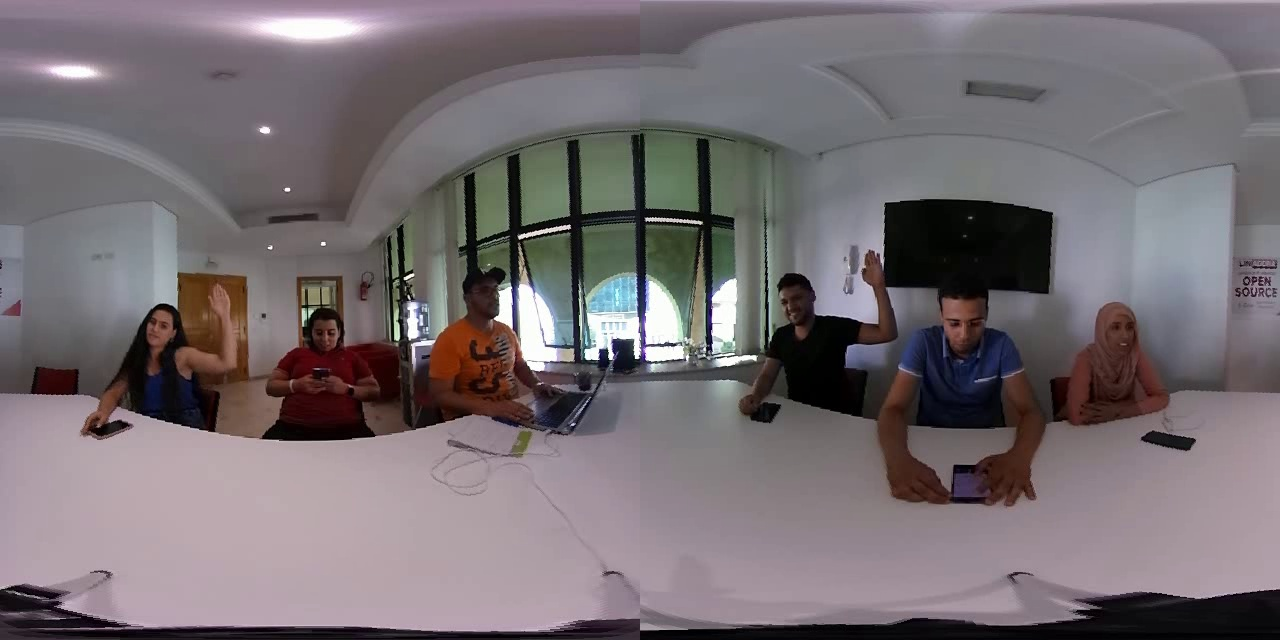person: (899, 265, 1053, 505), (77, 269, 260, 434), (730, 237, 898, 408), (427, 270, 571, 425), (1065, 296, 1179, 432), (262, 304, 379, 434)
voting: (834, 248, 899, 349), (185, 279, 249, 376)
